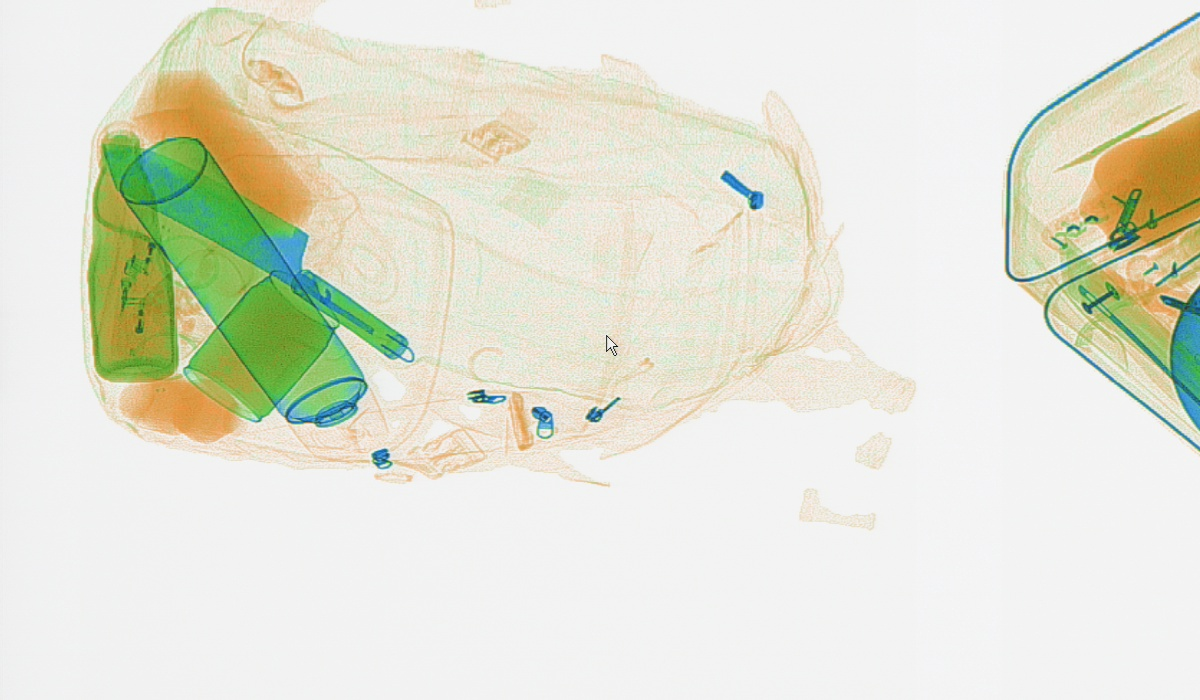knife: (99, 139, 420, 361)
lighter: (112, 277, 151, 383), (115, 201, 158, 292)
pressure: (116, 131, 389, 460)
